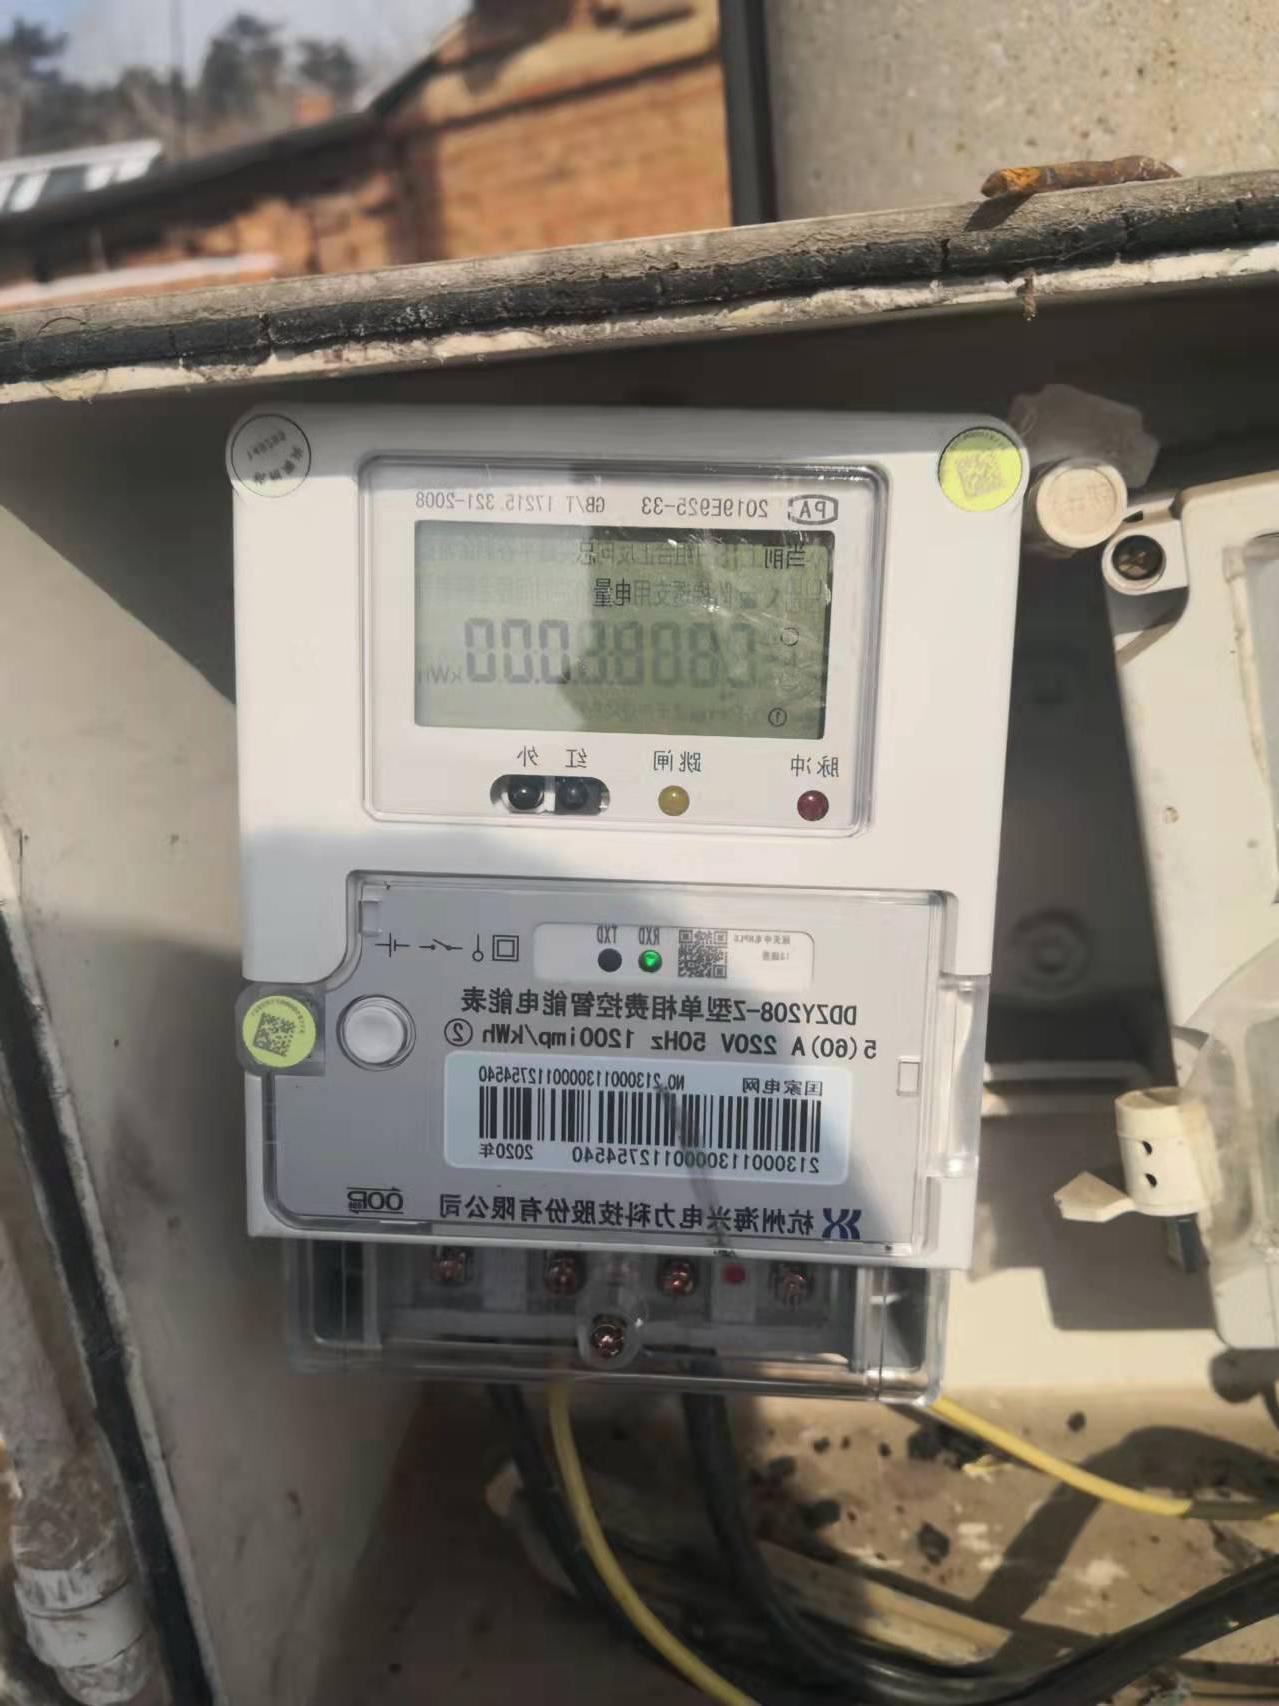digital: (231, 398, 1022, 1263)
